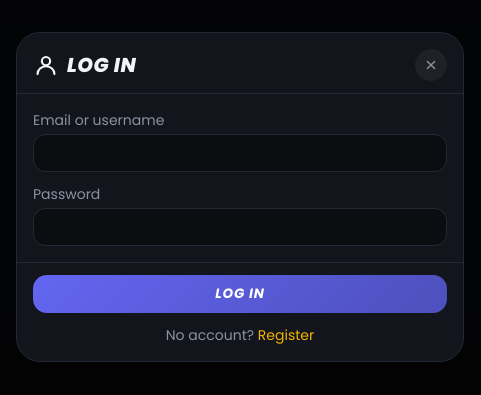
it: LoginPage › shows the server error message when login fails
In the field labelled "Email or username": (240, 153) [33,134,447,172], type "someone"
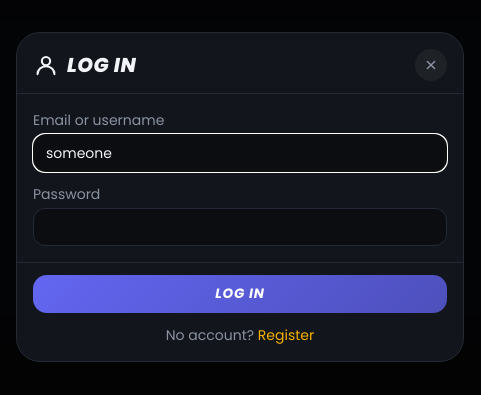
In the password field labelled "Password": (240, 227) [33,208,447,246], type "wrong-password"
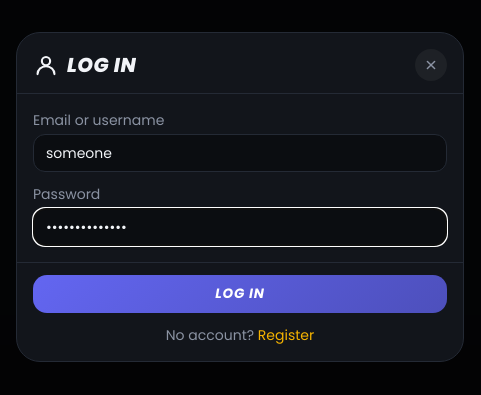
Click the button "Log in": (240, 294) [33,275,447,313]
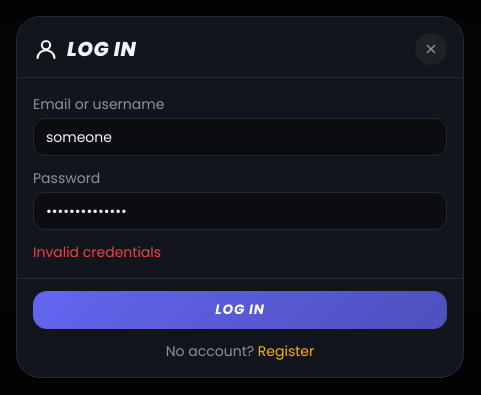
Check: the text "Invalid credentials" is shown, box [33,242,161,262]
